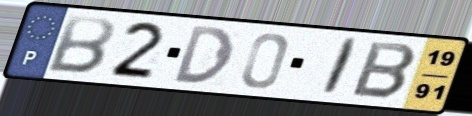0: (239, 31, 291, 90)
2: (108, 20, 169, 82)
B: (43, 13, 117, 76), (347, 39, 420, 101)
D: (172, 24, 237, 86)
I: (317, 36, 363, 98)
